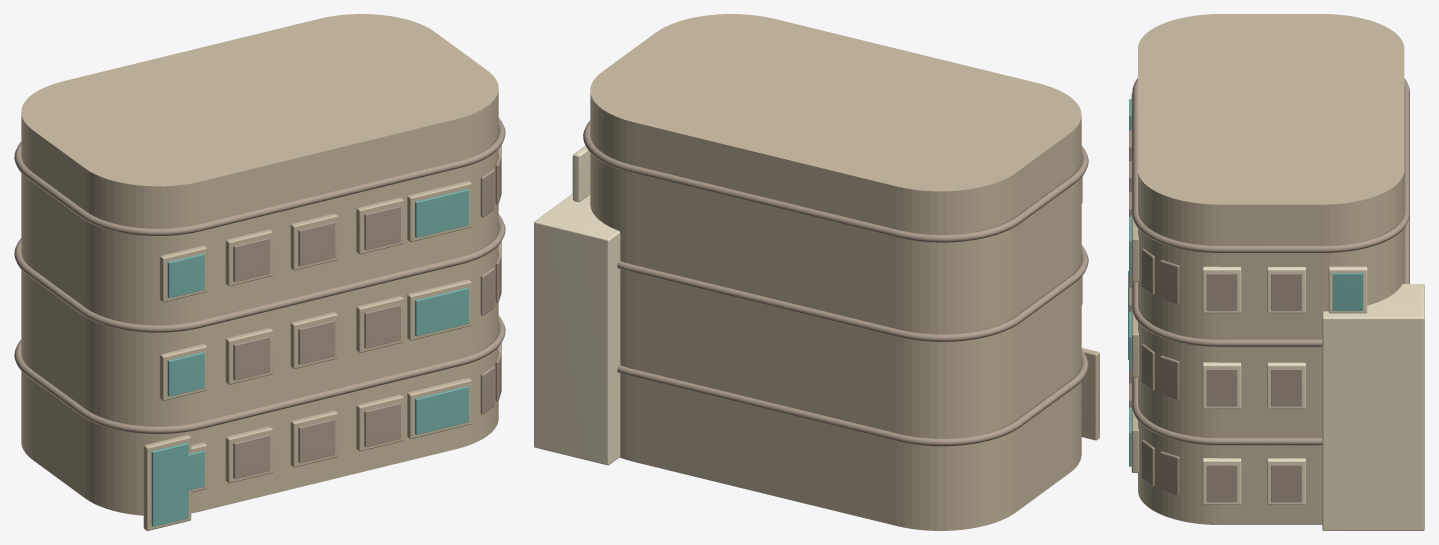
Rendered from asset07.glb.
The picture shows the model from 3 angles, left to right: view 1: azimuth 30°, elevation 25°; view 2: azimuth 150°, elevation 25°; view 3: azimuth 270°, elevation 25°; orthographic projection. The views are drawn at different scales.
Parts seen in each view (by area): view 1: 07_curved_apartment; view 2: 07_curved_apartment; view 3: 07_curved_apartment.
Boxes of the visible parts, x1,y1,x2,y2 form: 07_curved_apartment: (14, 14, 505, 530); 07_curved_apartment: (534, 14, 1099, 530); 07_curved_apartment: (1128, 14, 1424, 530).
Size of the model in its own units: 1 by 0.7563 by 0.6275.
